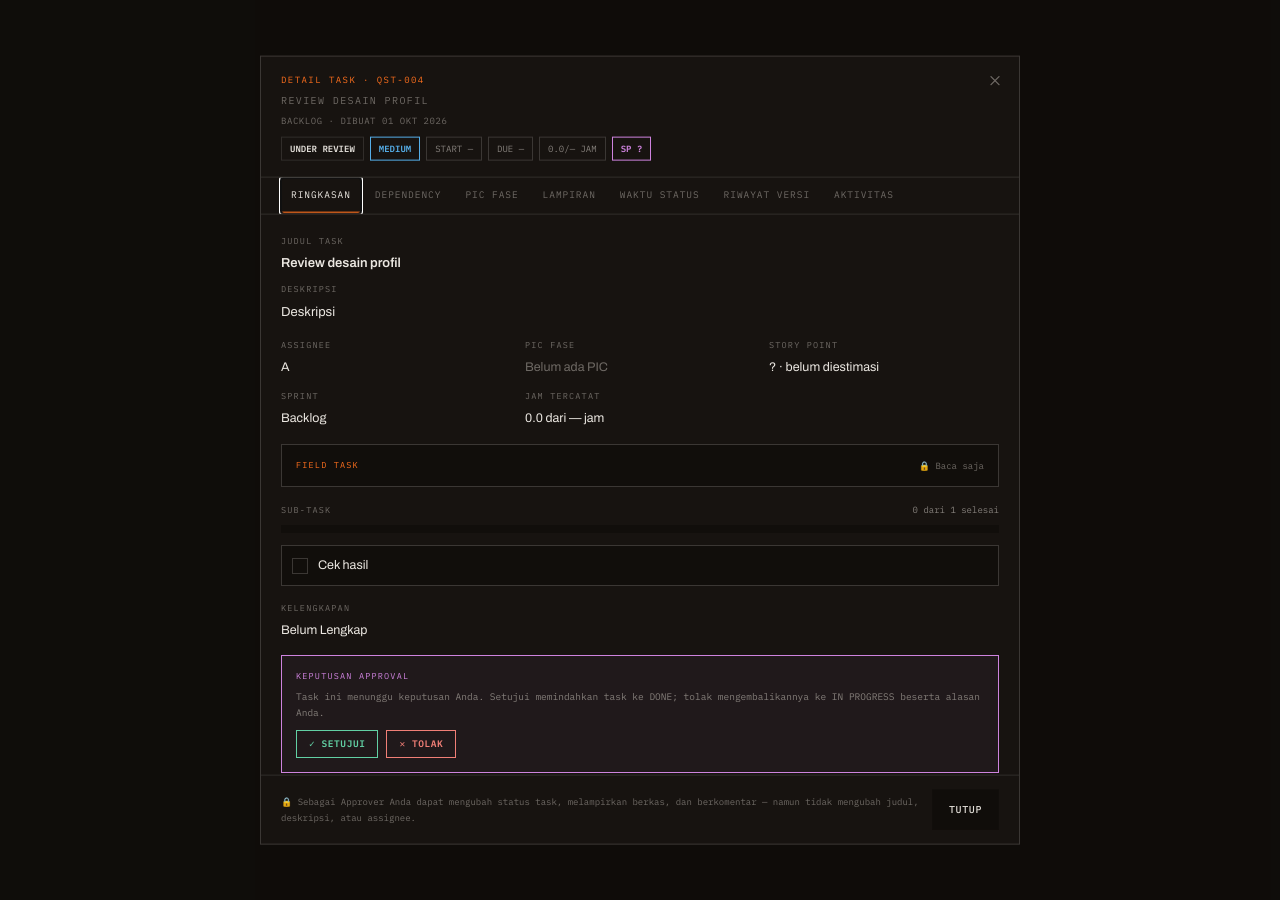
Test case: TaskDetailModal mode Approver: keputusan approval › tolak tanpa alasan ditolak dengan pesan desain; dengan alasan terkirim
Click the button "✕ TOLAK" at (421, 744), box [386,730,456,758]
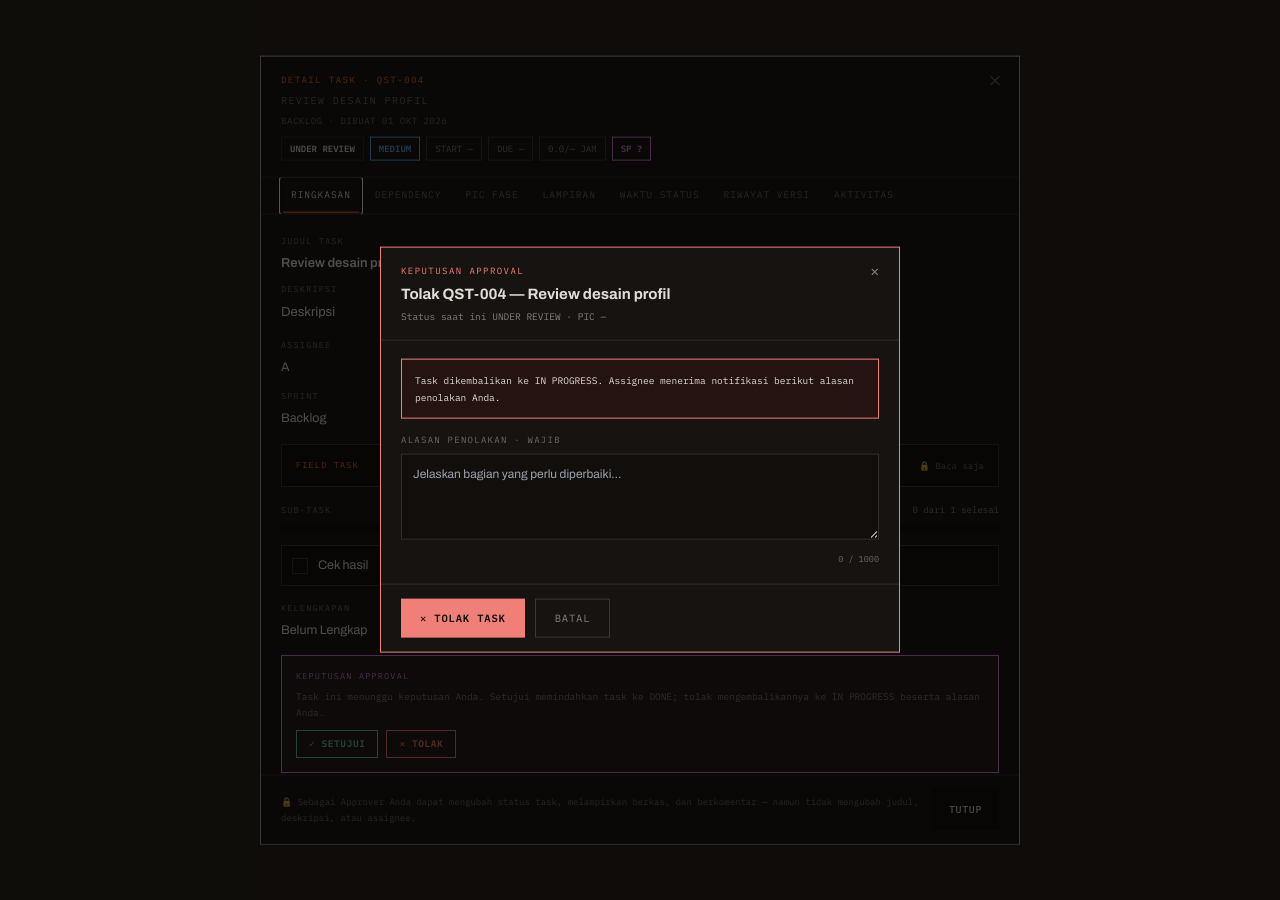
Click the button "✕ TOLAK TASK" at (463, 618), box [401,598,525,638]
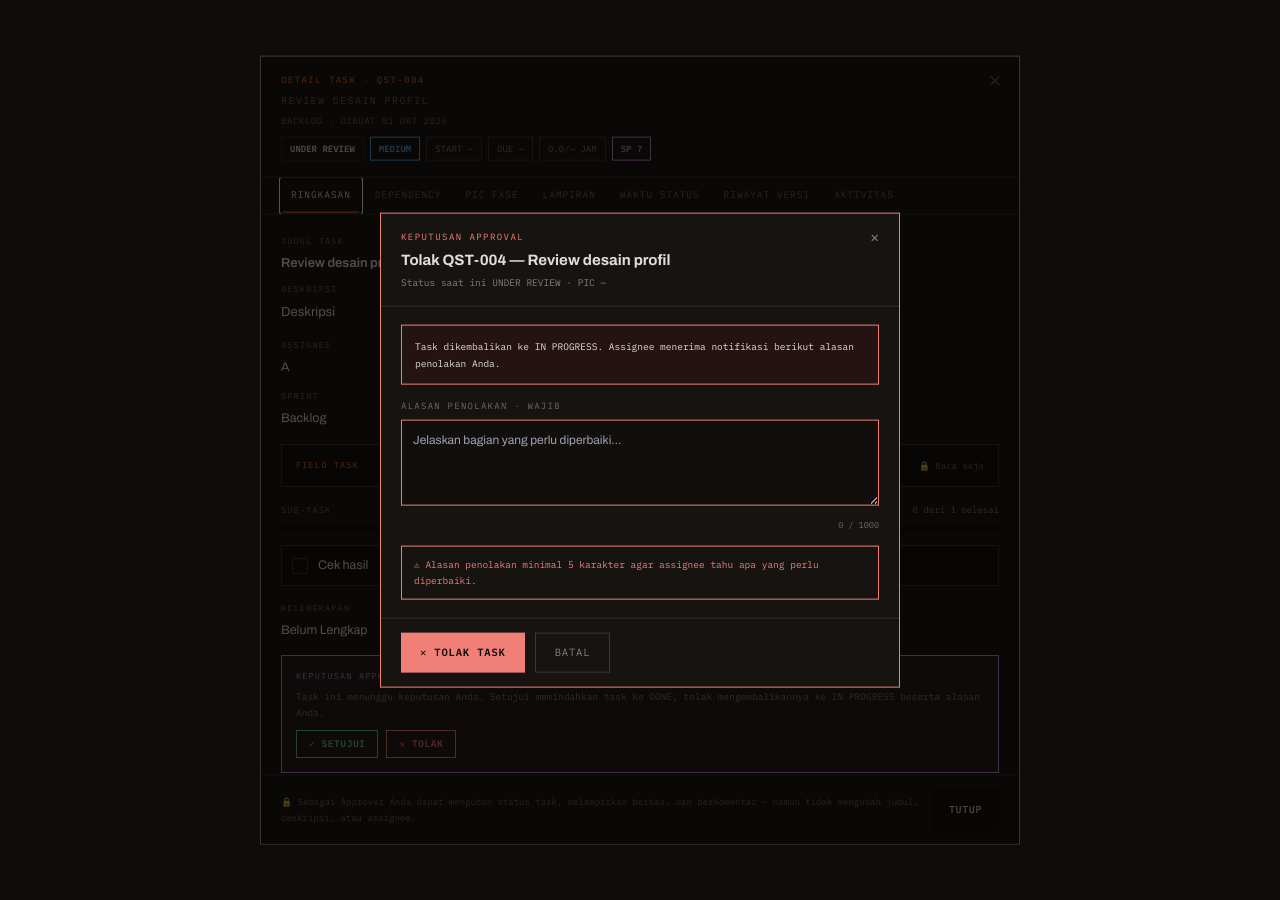
Expected: the text "Alasan penolakan minimal 5 karakter agar assignee tahu apa yang perlu diperbaiki" is shown, [414,557,819,586]
Type "Uji ulang pembayaran" into the text box with placeholder "Jelaskan bagian yang perlu diperbaiki…" at (640, 462), box [401,419,879,505]
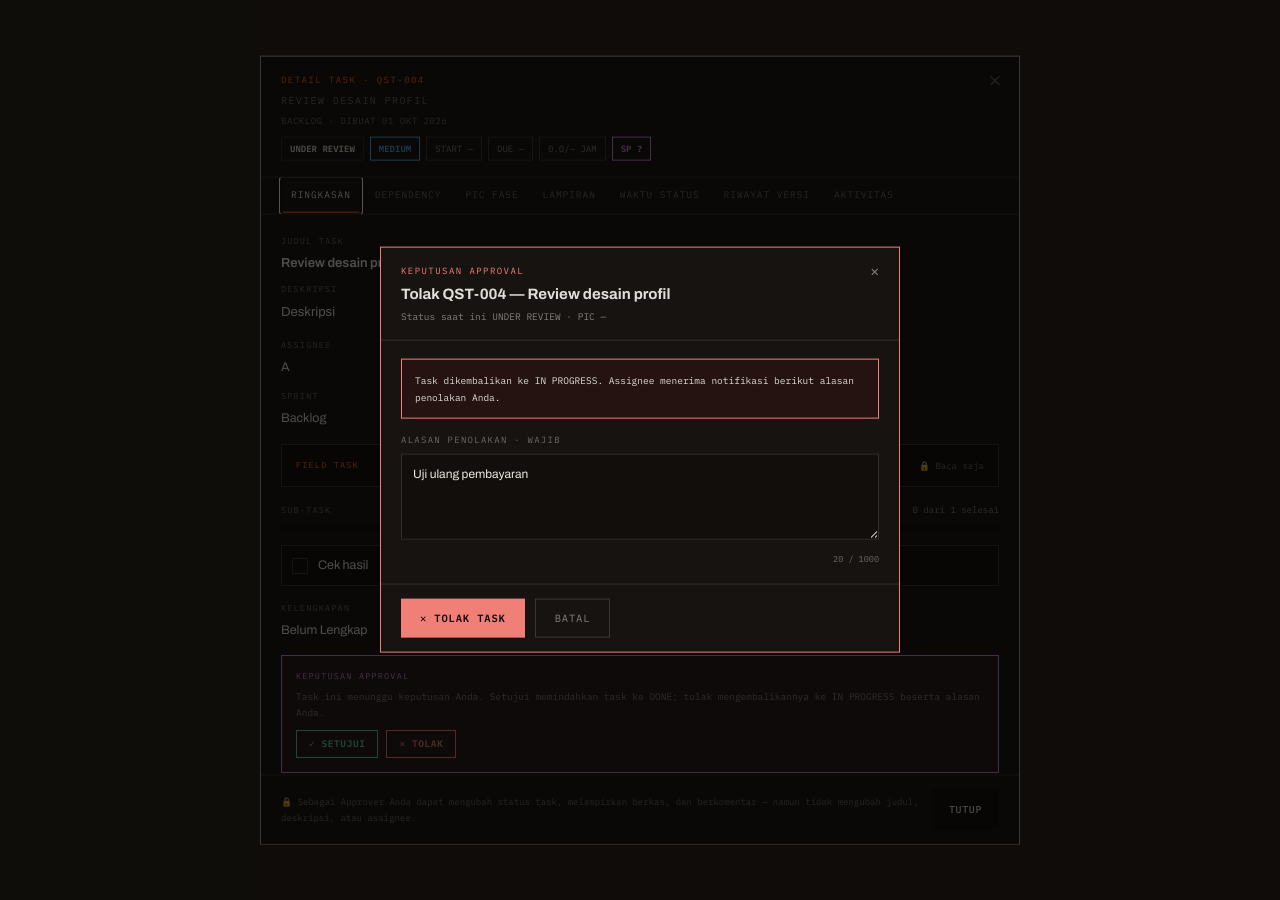
Click the button "✕ TOLAK TASK" at (463, 618), box [401,598,525,638]
(page scrolled)
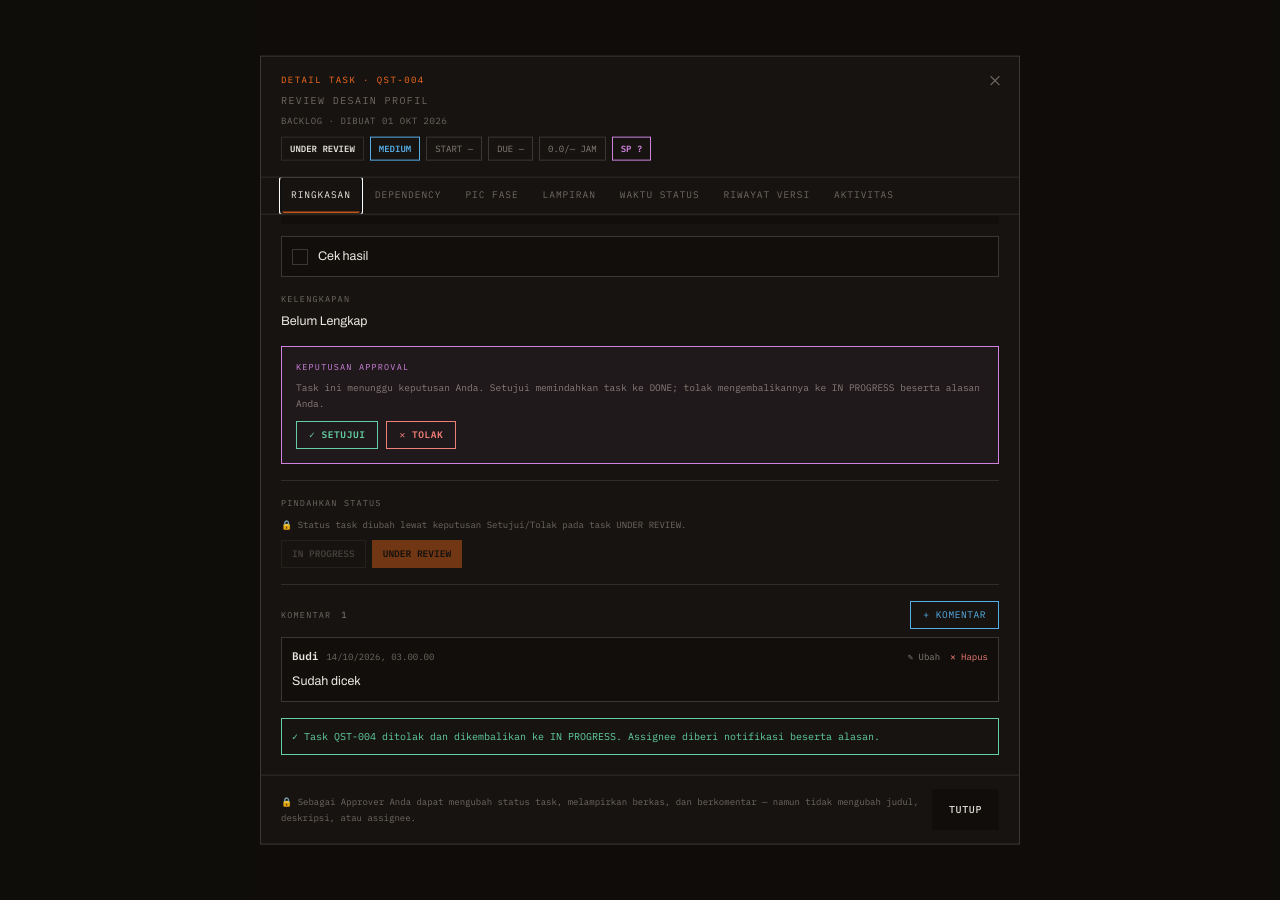
Expected: the text "Task QST-004 ditolak dan dikembalikan ke IN PROGRESS" is shown, [304,729,880,742]
